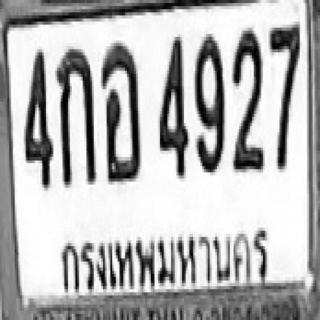A01: (55, 44, 94, 183)
A43: (100, 40, 141, 178)
N02: (232, 26, 263, 171)
N04: (157, 34, 188, 175), (22, 46, 52, 185)
N07: (269, 22, 300, 166)
N09: (193, 31, 222, 172)
P04: (55, 212, 274, 298)
